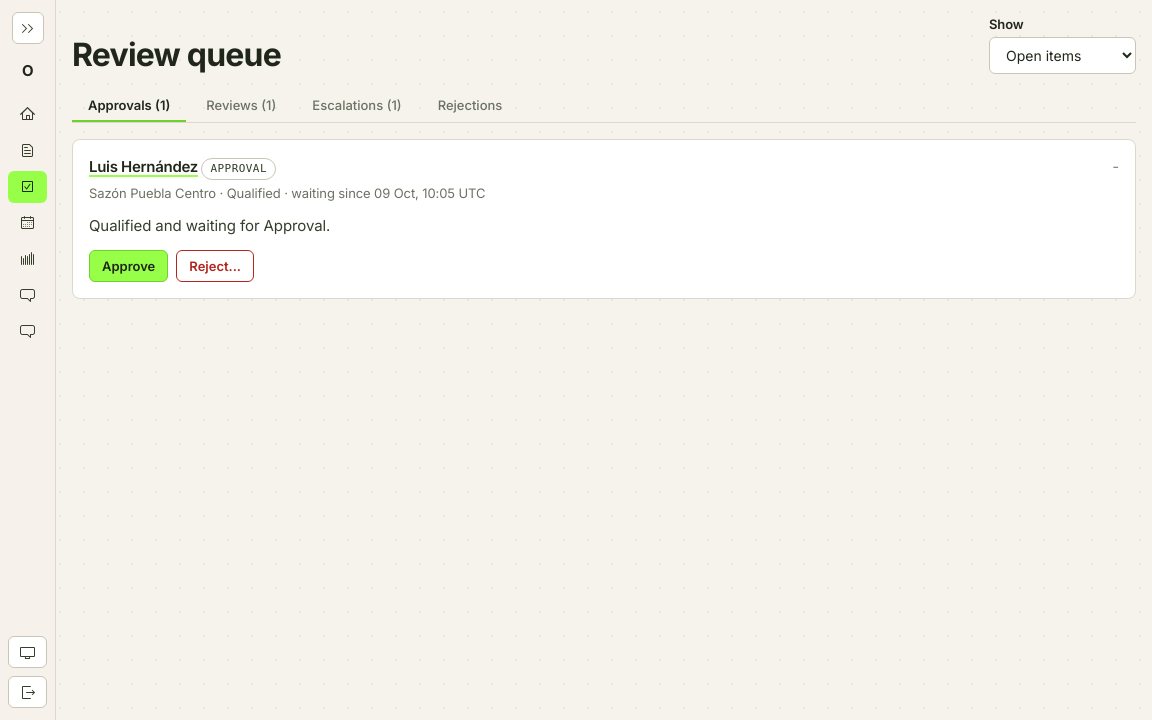
Test: Review queue › surfaces a conflict when the item was already resolved
Click the button "Approve" at (129, 266), box [89,250,168,282]
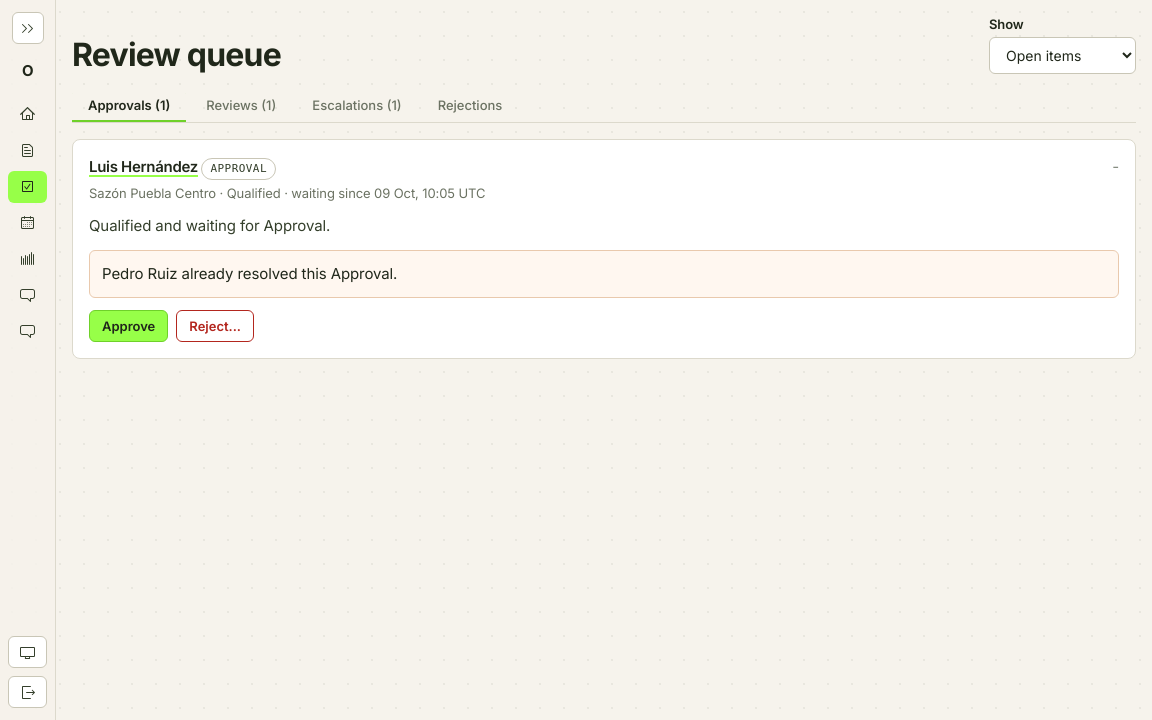
Result: the message reads "Pedro Ruiz already resolved this Approval." at [102,264,397,283]
